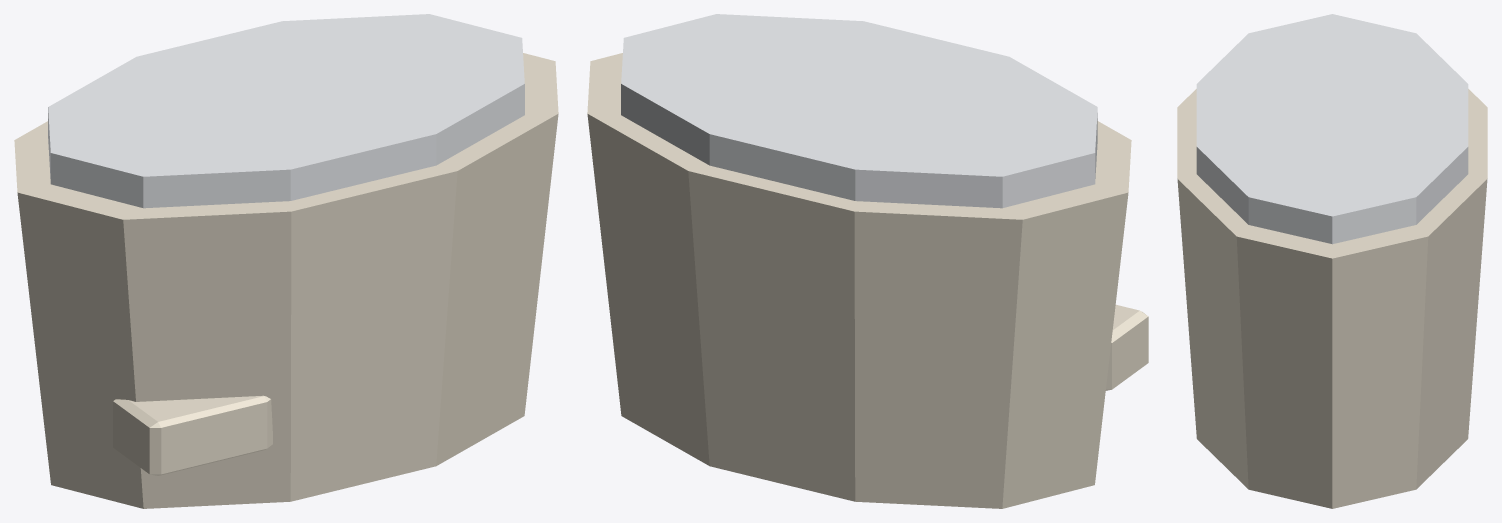
The model's file is b17_laced_american_football.glb.
3 renders of one model, left to right at view 1: azimuth 30°, elevation 25°; view 2: azimuth 150°, elevation 25°; view 3: azimuth 270°, elevation 25°, orthographic. The views are drawn at different scales.
Visible parts, largest first — view 1: b17_laced_american_football; view 2: b17_laced_american_football; view 3: b17_laced_american_football.
Boxes of the visible parts, x1,y1,x2,y2 form: b17_laced_american_football: [14, 14, 558, 508]; b17_laced_american_football: [587, 14, 1148, 508]; b17_laced_american_football: [1177, 14, 1487, 508].
Size of the model in its own units: 0.3 by 0.177 by 0.17.
